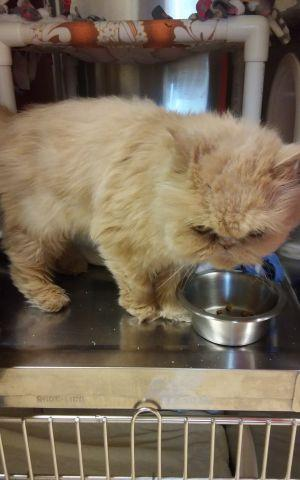persian: (147, 117, 300, 277)
